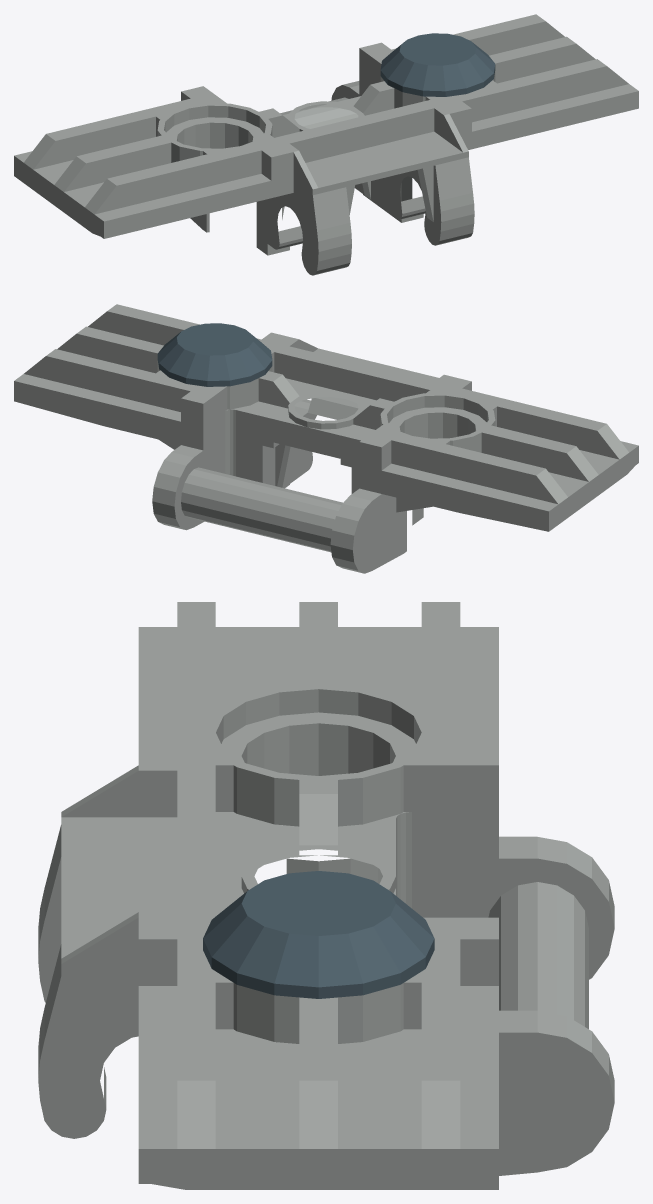
3 views of the same model, one above another, from view 1: azimuth 30°, elevation 25°; view 2: azimuth 150°, elevation 25°; view 3: azimuth 270°, elevation 25° (orthographic). The views are drawn at different scales.
Visible parts, largest first — view 1: world; view 2: world; view 3: world.
Part boxes in pixels (box(x1,y1,x2,y2)): world: box(14, 14, 638, 275); world: box(14, 304, 638, 573); world: box(38, 602, 614, 1189).
Bounding box in the file's own units: 0.0384 × 0.01 × 0.0179.
